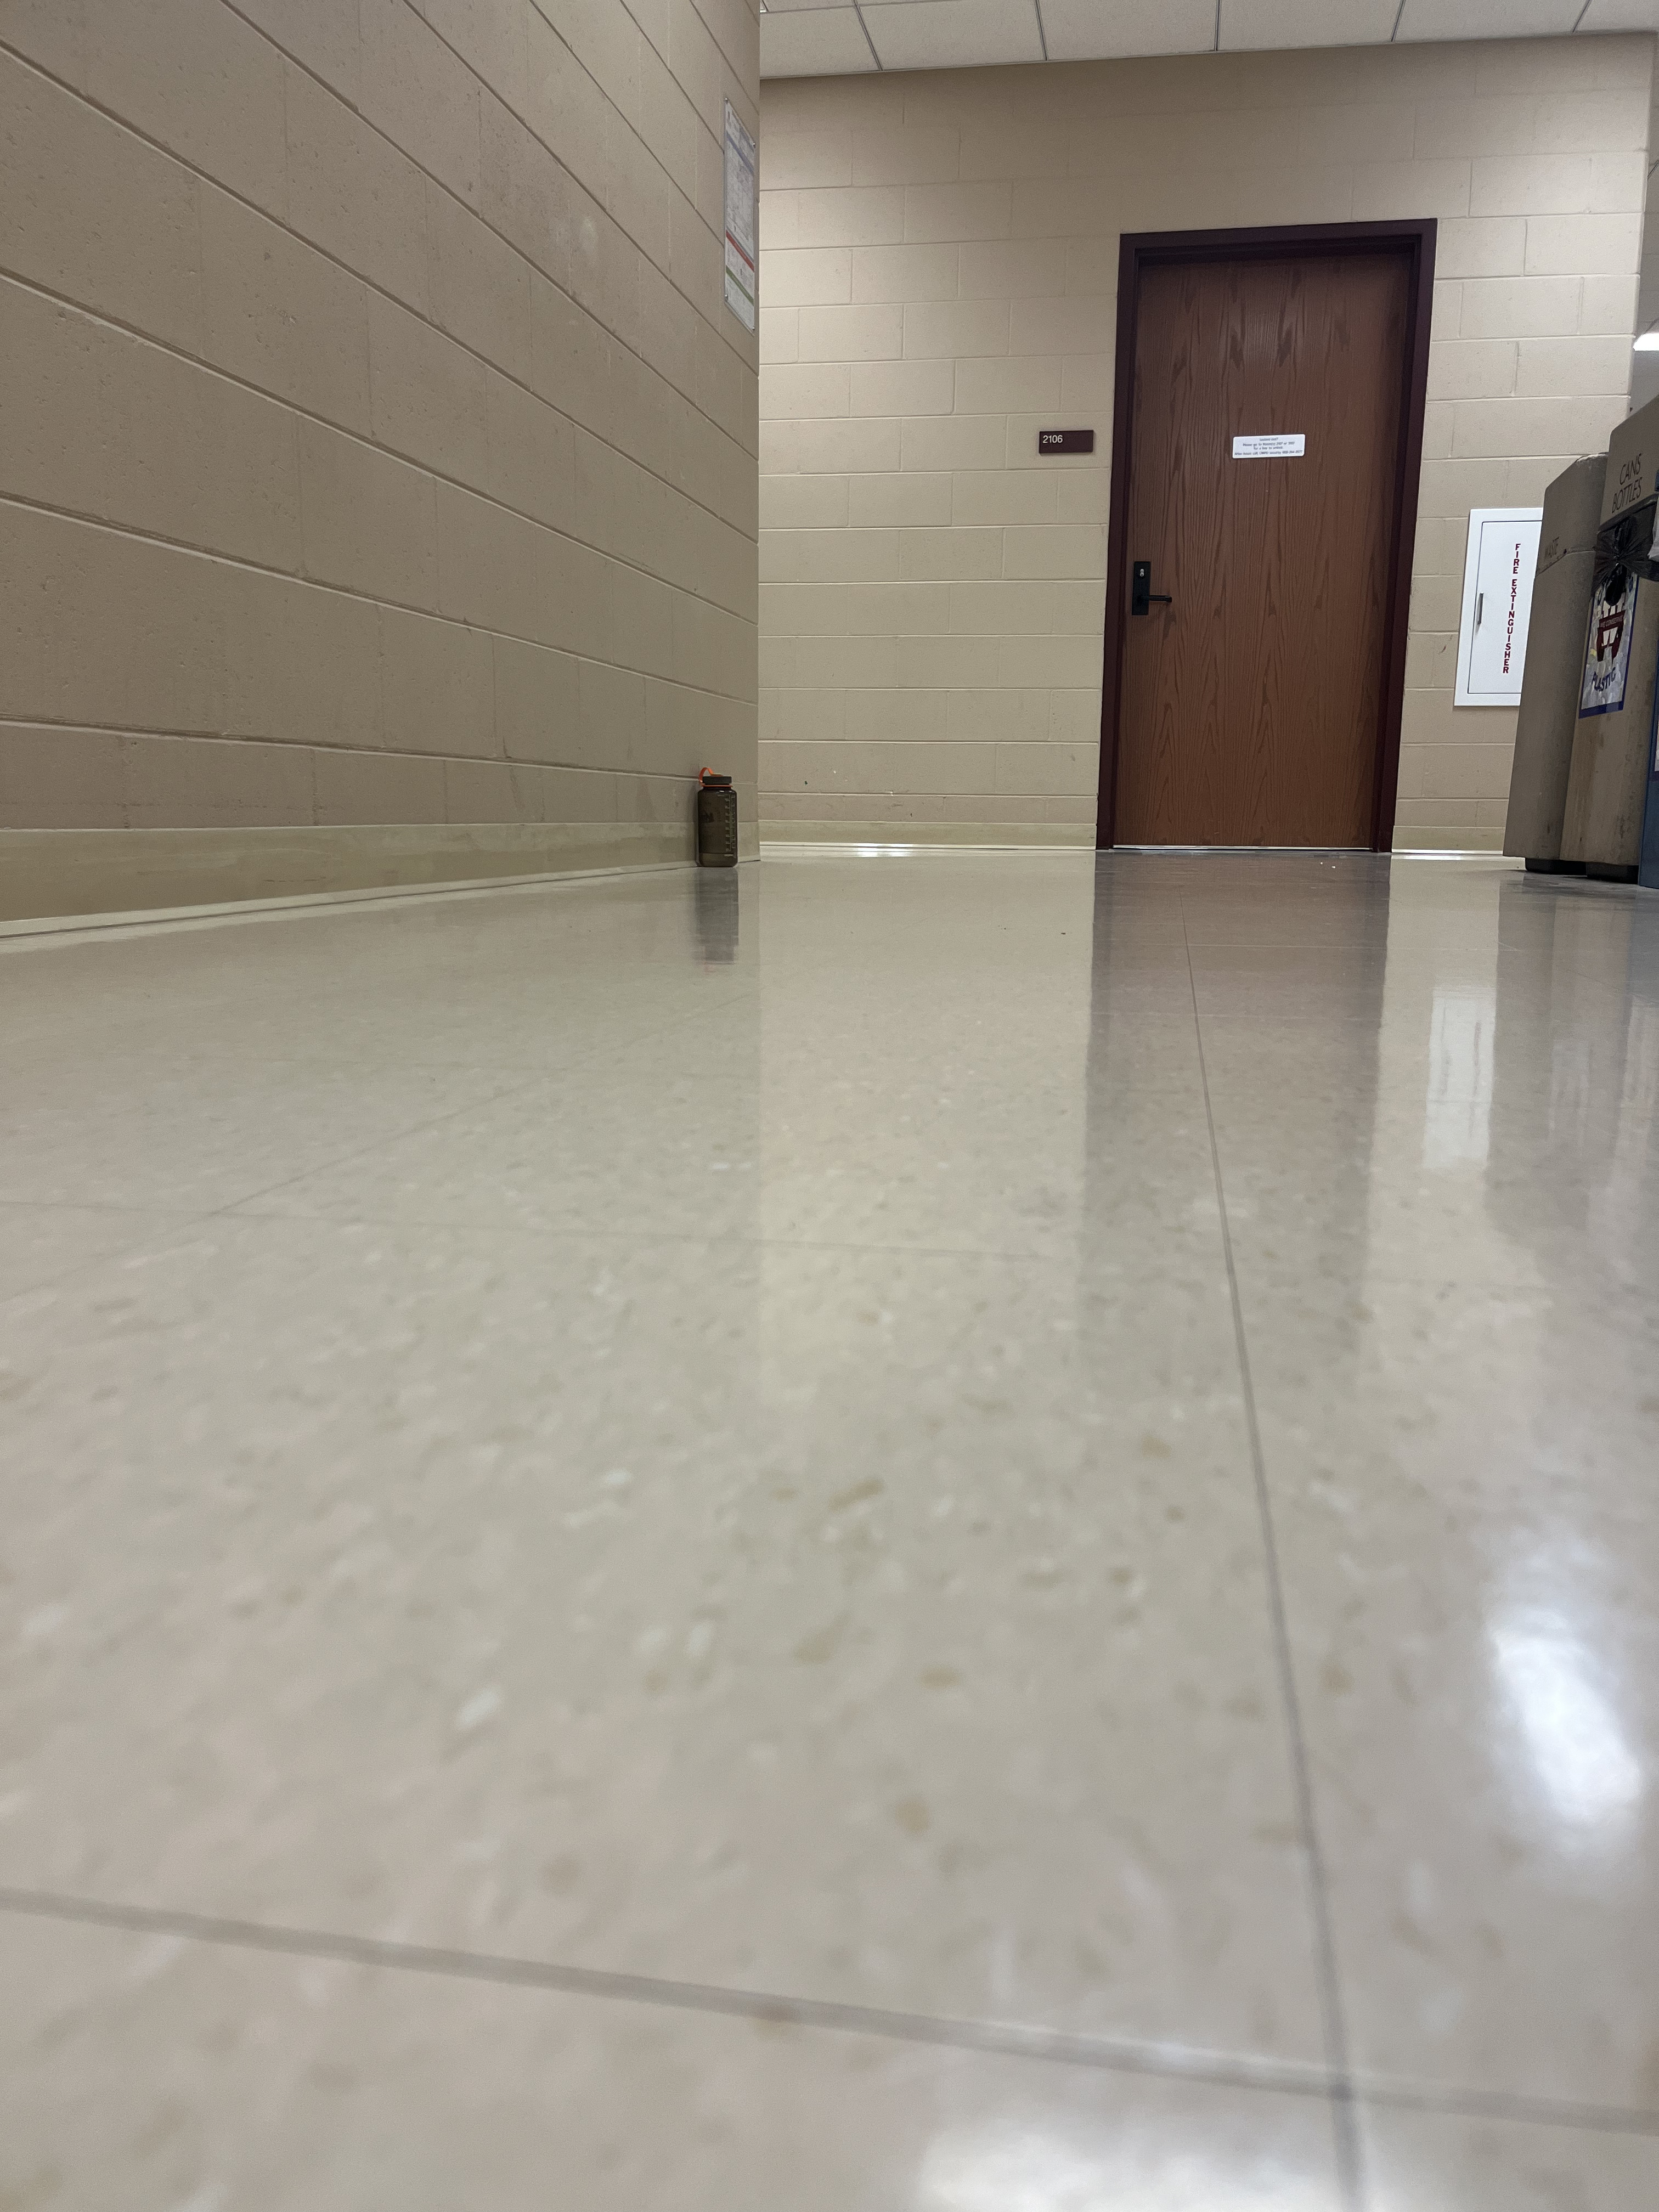bottle: (692, 754, 741, 880)
